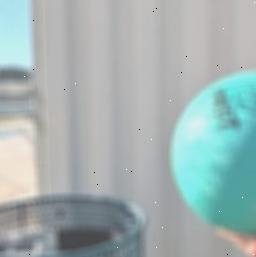algae: (168, 64, 256, 233)
